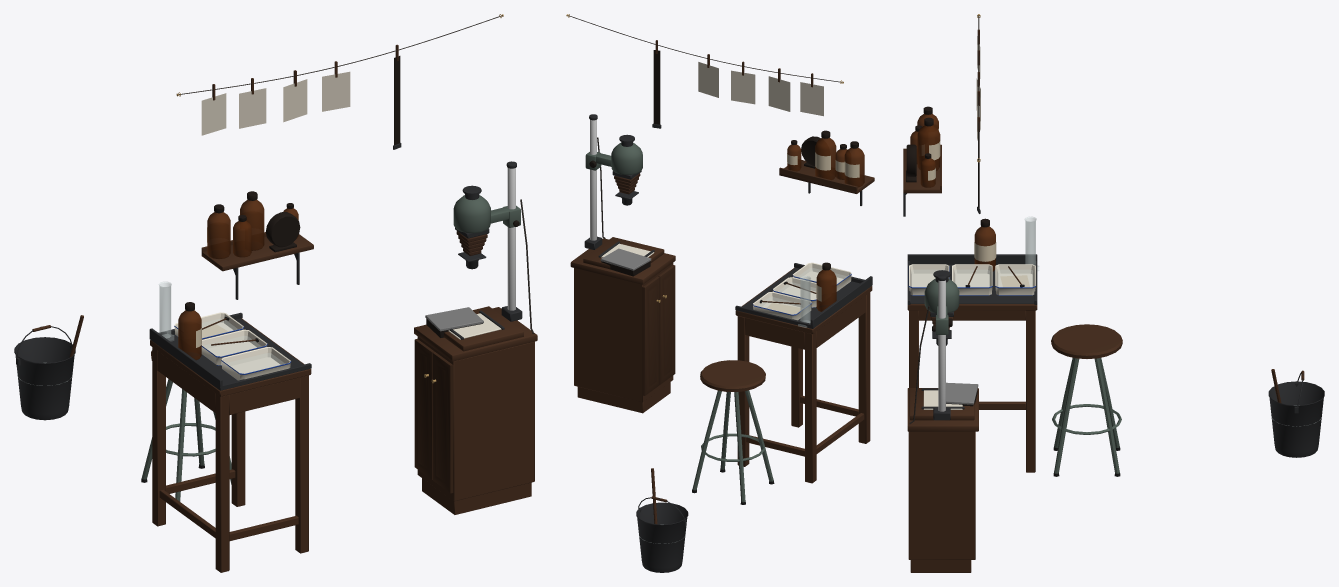
The model's file is darkroom_props.glb.
The picture shows the model from 3 angles, left to right: view 1: azimuth 30°, elevation 25°; view 2: azimuth 150°, elevation 25°; view 3: azimuth 270°, elevation 25°; orthographic projection. The views are drawn at different scales.
Parts seen in each view (by area): view 1: wet_bench, dry_bench, enlarger, wall_shelf, bucket, stool, drying_line, print_3, print_1, print_0, print_2; view 2: dry_bench, wet_bench, enlarger, stool, wall_shelf, bucket, drying_line, print_2, print_0, print_1, print_3; view 3: dry_bench, wet_bench, stool, enlarger, bucket, wall_shelf.
Part boxes in pixels (x1=…): wet_bench: x1=149, y1=282, x2=311, y2=572; dry_bench: x1=414, y1=307, x2=537, y2=514; enlarger: x1=444, y1=161, x2=534, y2=351; wall_shelf: x1=201, y1=191, x2=313, y2=299; bucket: x1=14, y1=315, x2=83, y2=420; stool: x1=141, y1=350, x2=231, y2=501; drying_line: x1=176, y1=14, x2=503, y2=149; print_3: x1=322, y1=71, x2=350, y2=111; print_1: x1=239, y1=88, x2=266, y2=128; print_0: x1=201, y1=93, x2=226, y2=135; print_2: x1=283, y1=79, x2=307, y2=122; dry_bench: x1=570, y1=238, x2=675, y2=413; wet_bench: x1=735, y1=262, x2=872, y2=483; enlarger: x1=583, y1=114, x2=664, y2=268; stool: x1=692, y1=360, x2=774, y2=504; wall_shelf: x1=779, y1=130, x2=874, y2=205; bucket: x1=636, y1=468, x2=688, y2=572; drying_line: x1=566, y1=14, x2=843, y2=128; print_2: x1=731, y1=70, x2=755, y2=104; print_0: x1=800, y1=82, x2=823, y2=116; print_1: x1=768, y1=76, x2=790, y2=111; print_3: x1=698, y1=62, x2=718, y2=97; dry_bench: x1=907, y1=382, x2=978, y2=572; wet_bench: x1=907, y1=217, x2=1038, y2=472; stool: x1=1051, y1=324, x2=1122, y2=476; enlarger: x1=909, y1=270, x2=974, y2=423; bucket: x1=1268, y1=369, x2=1324, y2=457; wall_shelf: x1=903, y1=106, x2=941, y2=216.
Bounding box in the file's own units: 1.6 × 2.13 × 1.95.
